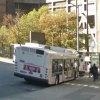Bus: (9, 41, 80, 86)
